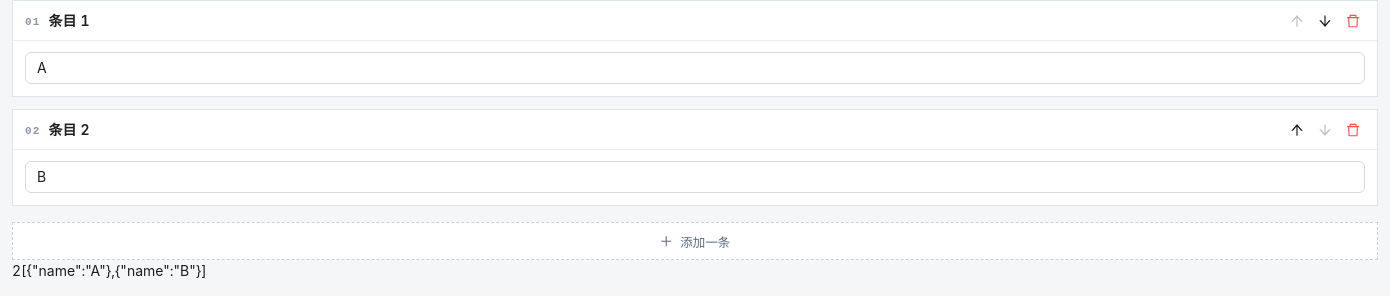
Test case: ArrayEditor › itemRender 的 patch 会局部更新对应条目
The width and height of the screenshot is (1390, 296).
Type "X" into the field named "name-1" at (695, 177), box x1=25 y1=161 x2=1365 y2=193
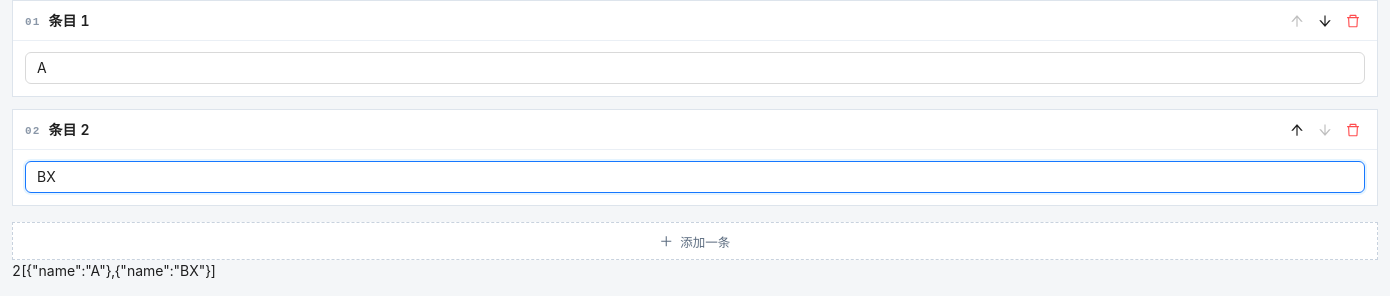
Expected: the text with test id "snapshot" shows "{\"name\":\"BX\"}", x1=21 y1=262 x2=216 y2=279
